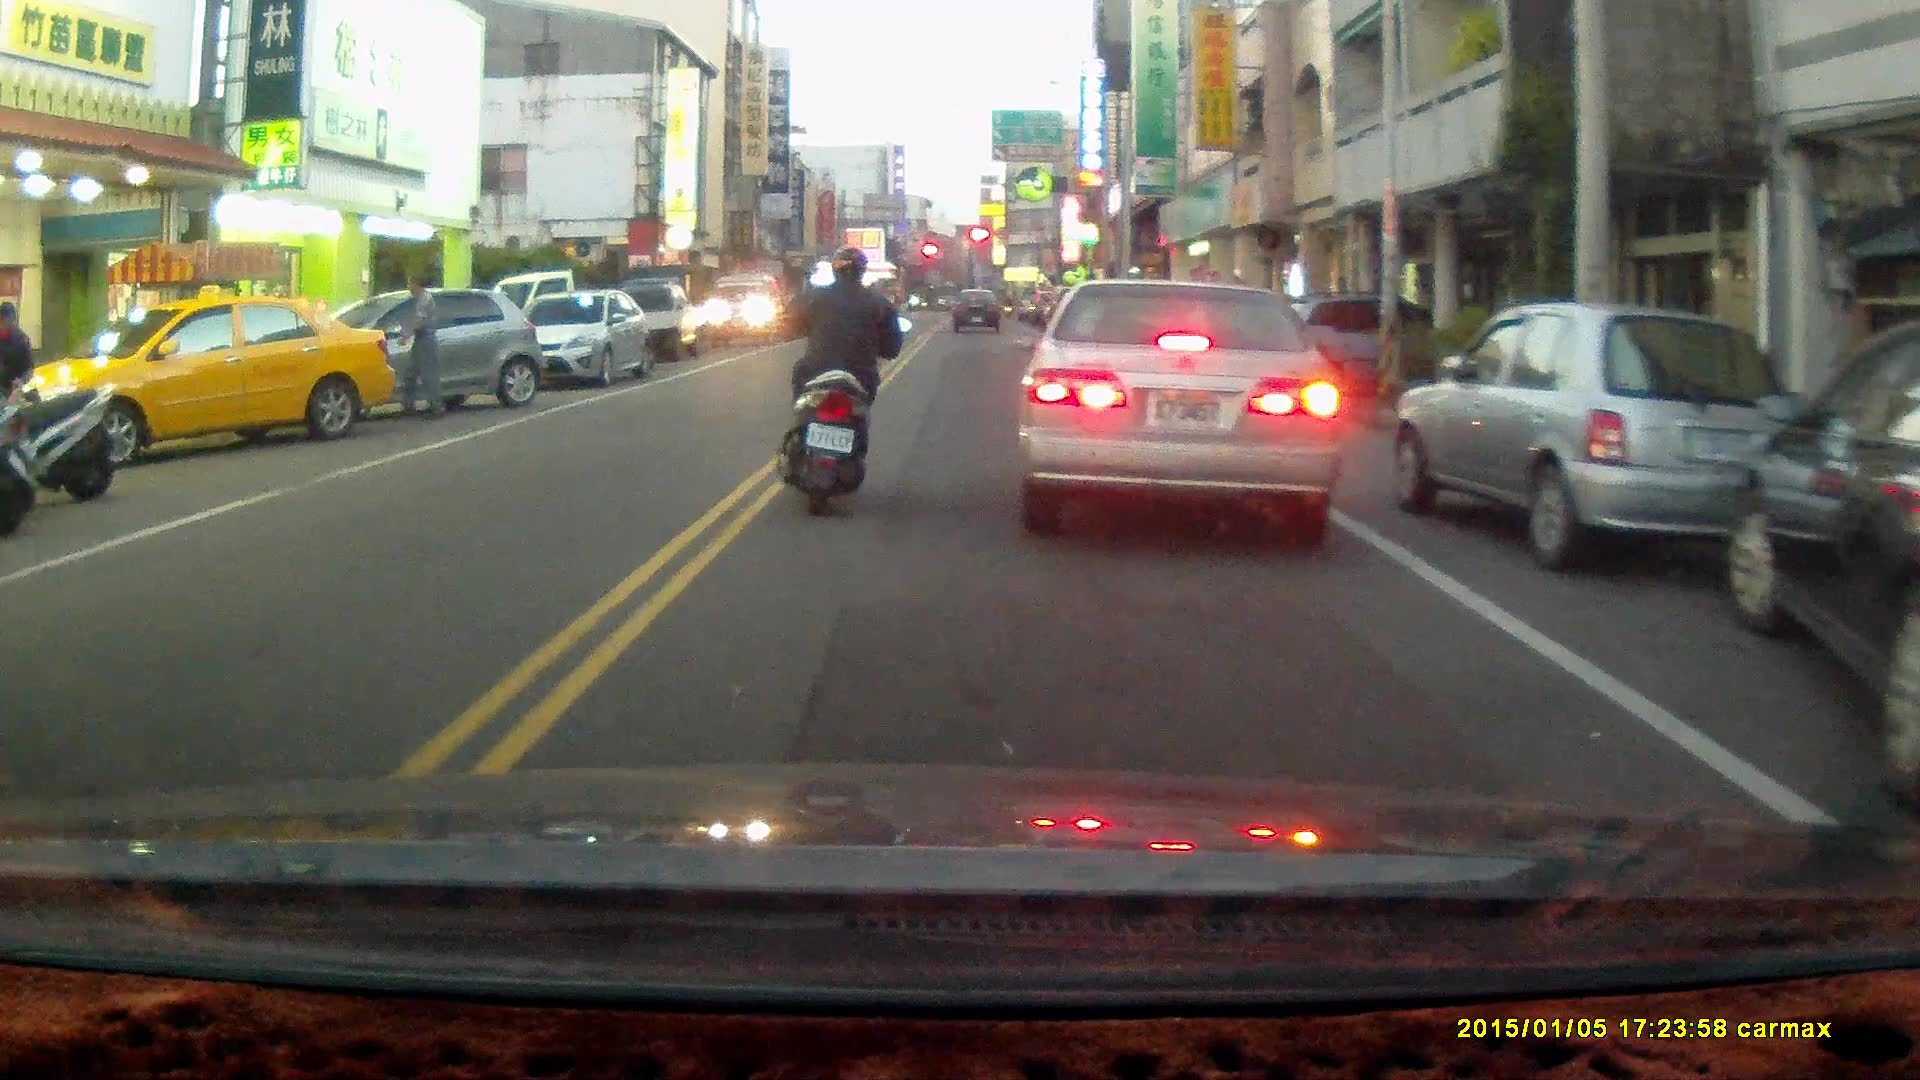pedestrian: (390, 271, 452, 423), (0, 296, 36, 426)
rider: (782, 243, 918, 519)
vehicle: (1392, 298, 1809, 569), (1724, 331, 1920, 806), (1011, 272, 1347, 533), (12, 300, 404, 469), (301, 285, 542, 414), (522, 290, 655, 391), (618, 278, 709, 367), (703, 275, 788, 347)
